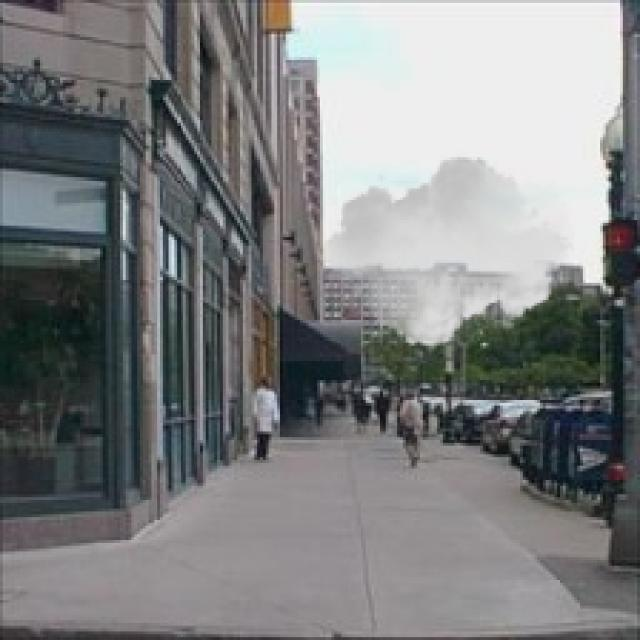smoke: (317, 149, 574, 354)
